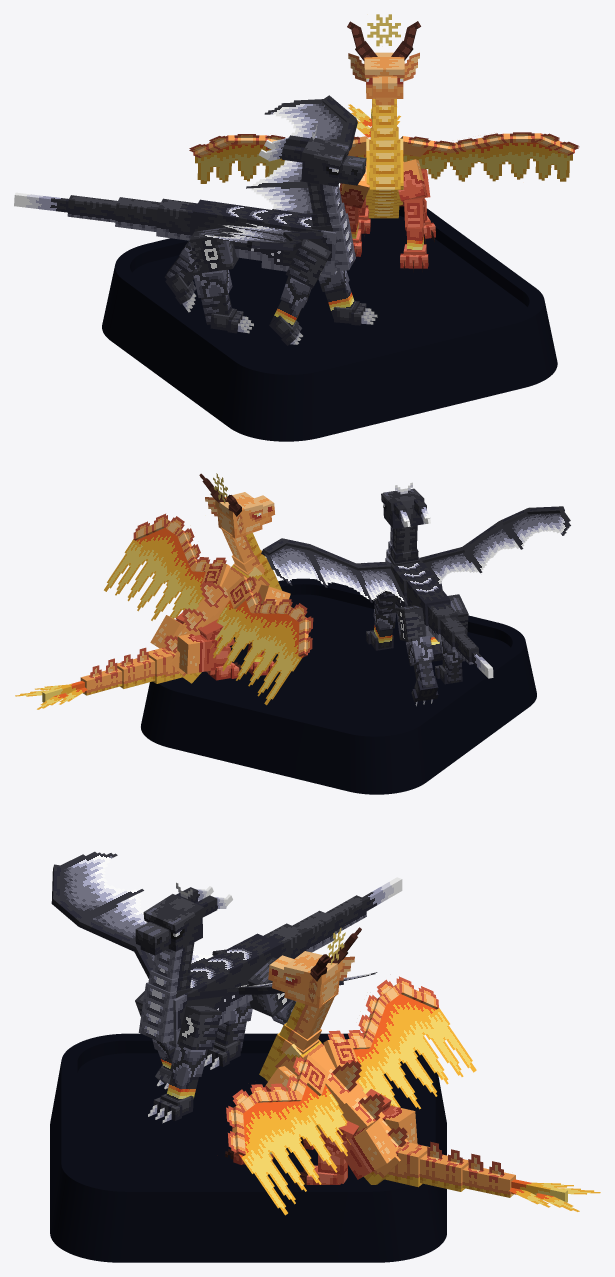
Rendered from dragon_diorama.glb.
3 views of the same model, one above another, from view 1: azimuth 30°, elevation 25°; view 2: azimuth 150°, elevation 25°; view 3: azimuth 270°, elevation 25° (orthographic). The views are drawn at different scales.
Parts seen in each view (by area): view 1: Cube, cube.171, cube.172, cube.139, cube.084, cube.096, cube.136, cube.042, cube.077, cube.170, cube.116, cube.169 (+20 smaller); view 2: Cube, cube.084, cube.096, cube.089, cube.077, cube.139, cube.030, cube.146, cube.171, cube.141, cube.147, cube.040 (+23 smaller); view 3: Cube, cube.096, cube.084, cube.146, cube.077, cube.089, cube.171, cube.172, cube.020, cube.166, cube.040, cube.074 (+27 smaller).
Part boxes in pixels (left/top/right/bottom): Cube: left=102, top=206, right=557, bottom=441; cube.171: left=191, top=199, right=271, bottom=260; cube.172: left=261, top=209, right=337, bottom=278; cube.139: left=264, top=99, right=346, bottom=148; cube.084: left=505, top=142, right=572, bottom=181; cube.096: left=195, top=144, right=262, bottom=183; cube.136: left=189, top=227, right=238, bottom=273; cube.042: left=369, top=139, right=400, bottom=189; cube.077: left=450, top=143, right=505, bottom=181; cube.170: left=156, top=198, right=197, bottom=240; cube.116: left=285, top=239, right=331, bottom=288; cube.169: left=115, top=197, right=160, bottom=231; Cube: left=141, top=578, right=536, bottom=794; cube.084: left=104, top=528, right=178, bottom=601; cube.096: left=248, top=614, right=303, bottom=705; cube.089: left=222, top=613, right=287, bottom=680; cube.077: left=137, top=539, right=192, bottom=620; cube.139: left=264, top=545, right=327, bottom=587; cube.030: left=177, top=634, right=216, bottom=674; cube.146: left=504, top=510, right=570, bottom=549; cube.171: left=406, top=577, right=450, bottom=637; cube.141: left=310, top=550, right=372, bottom=602; cube.147: left=465, top=525, right=519, bottom=573; cube.040: left=198, top=564, right=277, bottom=637; Cube: left=50, top=1033, right=446, bottom=1262; cube.096: left=385, top=994, right=476, bottom=1084; cube.084: left=239, top=1103, right=306, bottom=1215; cube.146: left=61, top=851, right=143, bottom=918; cube.077: left=257, top=1101, right=337, bottom=1184; cube.089: left=369, top=1008, right=437, bottom=1109; cube.171: left=203, top=933, right=281, bottom=1010; cube.172: left=165, top=961, right=230, bottom=1047; cube.020: left=344, top=1120, right=397, bottom=1179; cube.166: left=138, top=982, right=192, bottom=1042; cube.040: left=262, top=1041, right=363, bottom=1130; cube.074: left=299, top=1085, right=350, bottom=1156.
Bounding box in the file's own units: 9.66 × 4.87 × 8.67.
Materials: 3 (2 with a texture image).
